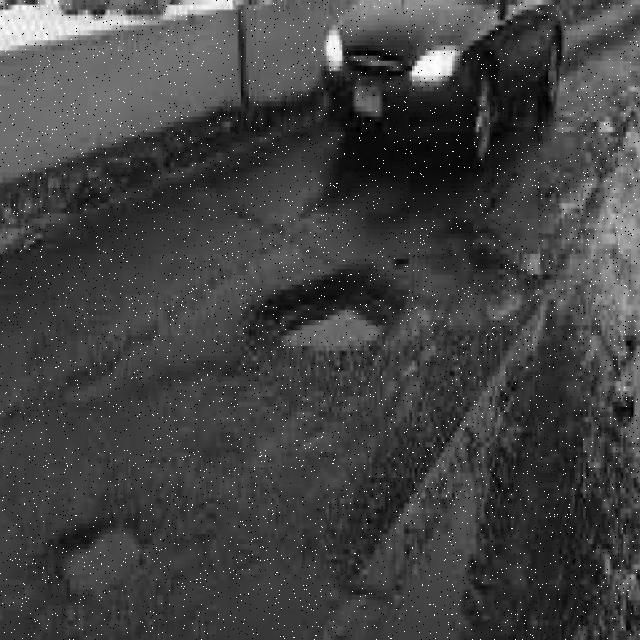pothole: (0, 529, 144, 640), (265, 269, 407, 361)
